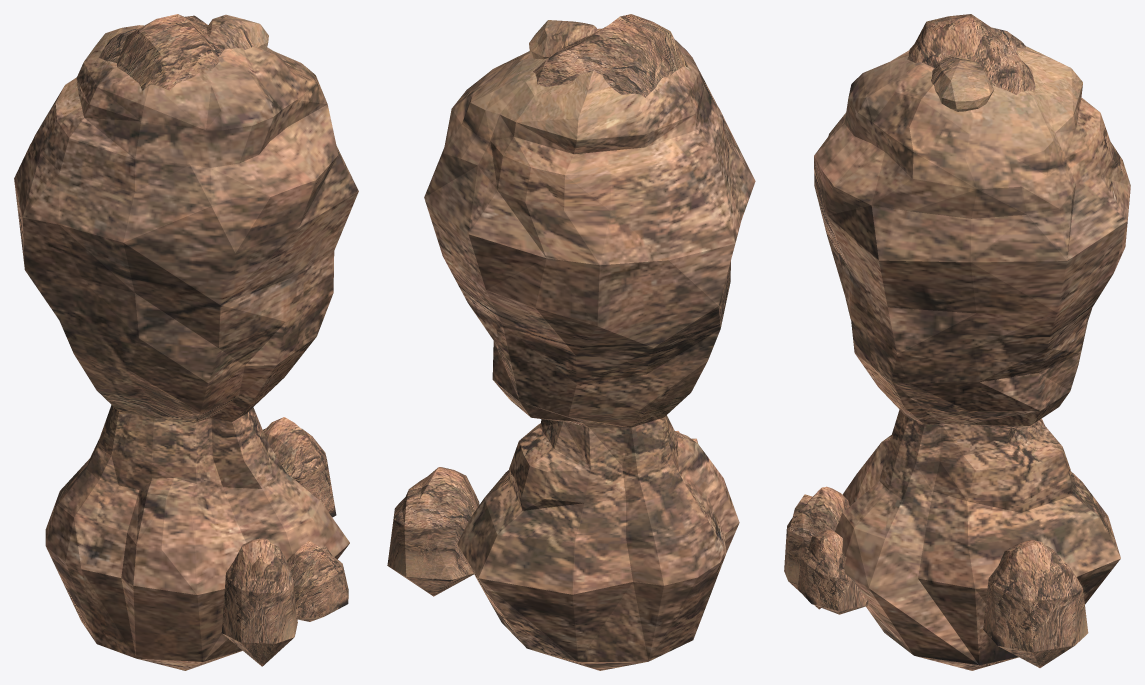
The model's file is rock_tatt_mushroom_a1_l0.fbx.
3 views of the same model, side by side, from view 1: azimuth 30°, elevation 25°; view 2: azimuth 150°, elevation 25°; view 3: azimuth 270°, elevation 25° (orthographic). The views are drawn at different scales.
Parts seen in each view (by area): view 1: mesh_node; view 2: mesh_node; view 3: mesh_node.
Part boxes in pixels (box(x1,y1,x2,y2)): mesh_node: box(14, 14, 358, 670); mesh_node: box(387, 14, 755, 670); mesh_node: box(784, 14, 1130, 670).
Bounding box in the file's own units: 32.95 × 63.29 × 31.09.
